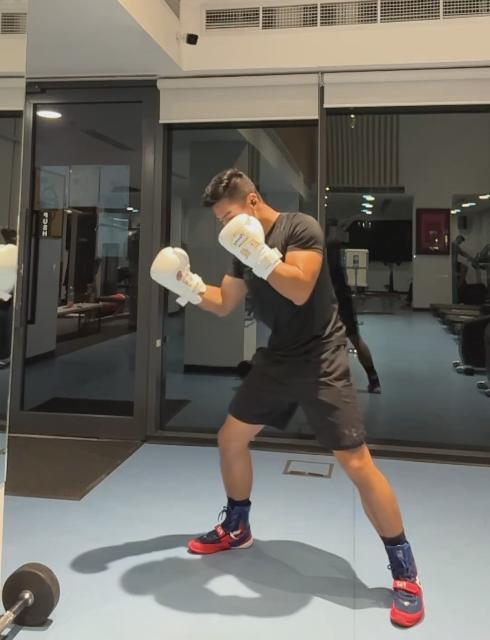punch: (148, 164, 428, 630)
